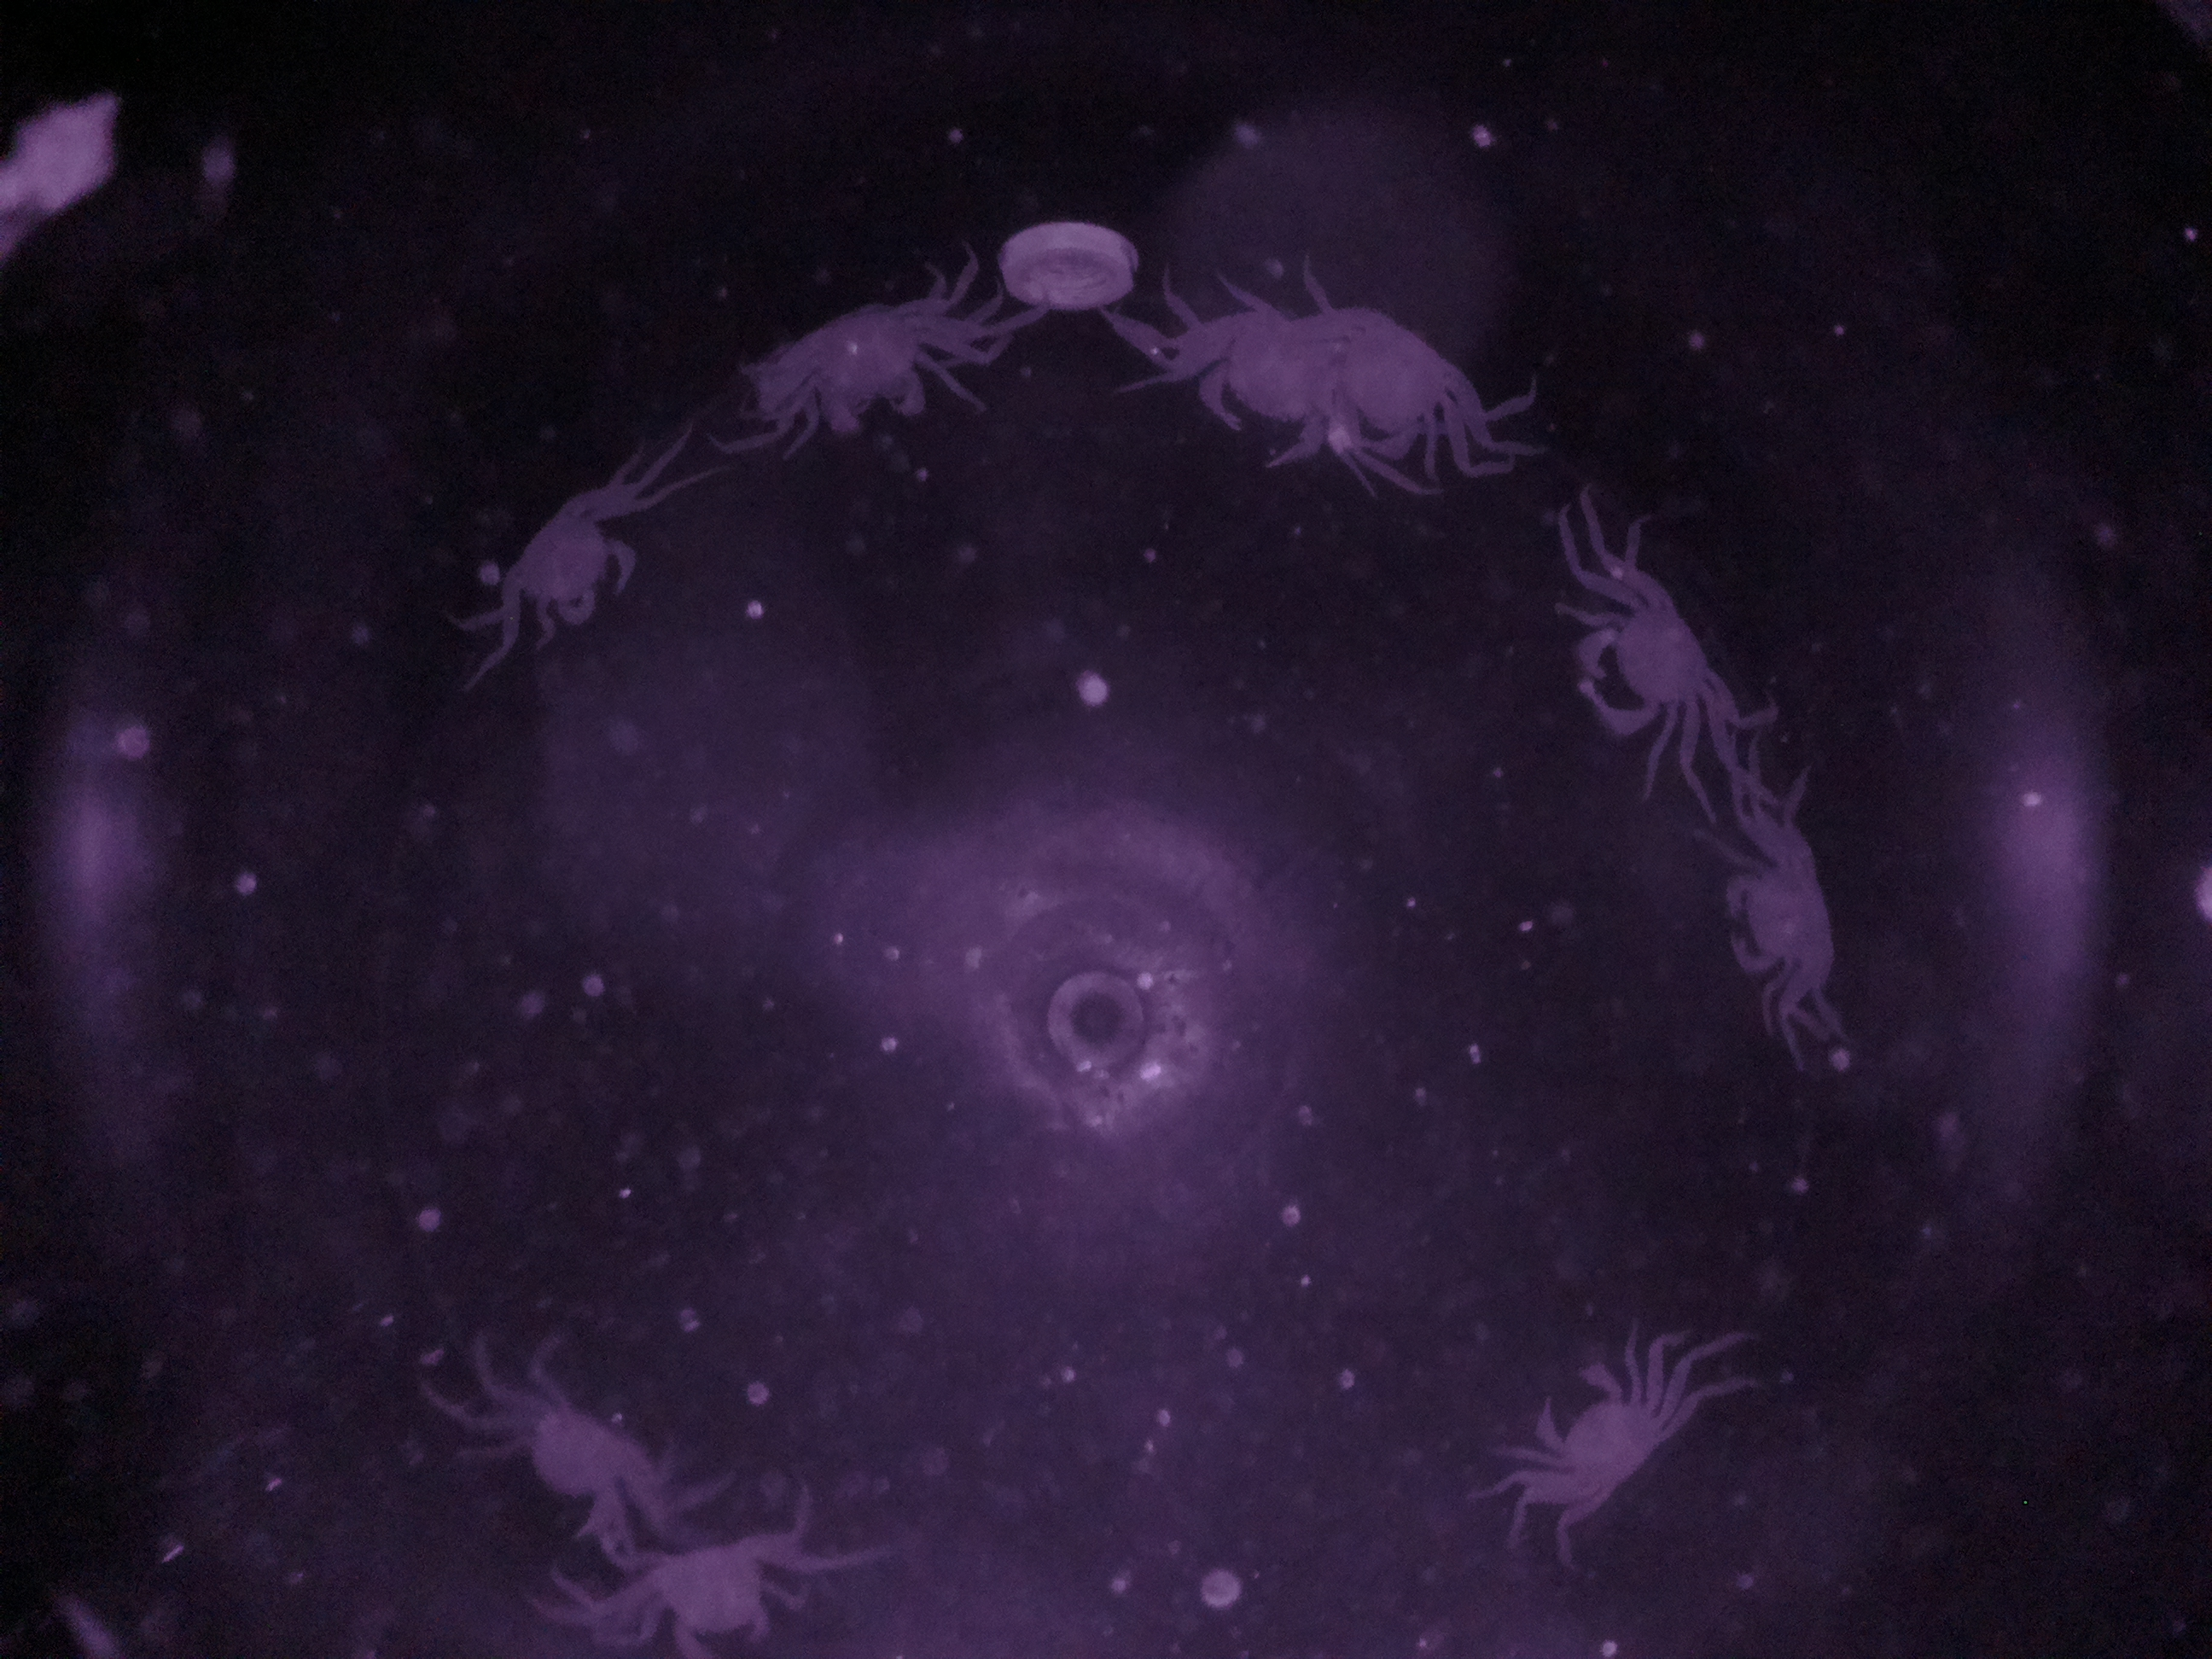Crab: (1561, 552, 1756, 781), (472, 471, 653, 660), (1517, 1326, 1672, 1542), (1716, 816, 1862, 1011)
